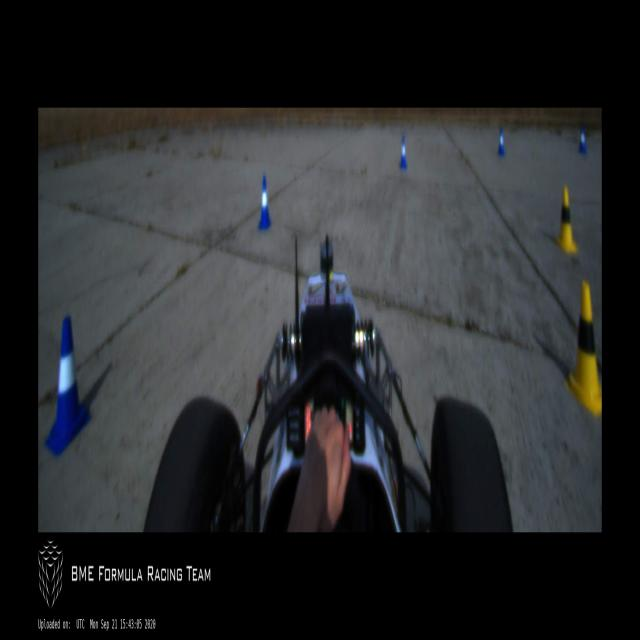blue_cone: (44, 317, 92, 458), (258, 175, 272, 231), (578, 128, 587, 155), (400, 137, 407, 168), (498, 127, 505, 156)
yellow_cone: (564, 281, 602, 414), (556, 186, 578, 254)
